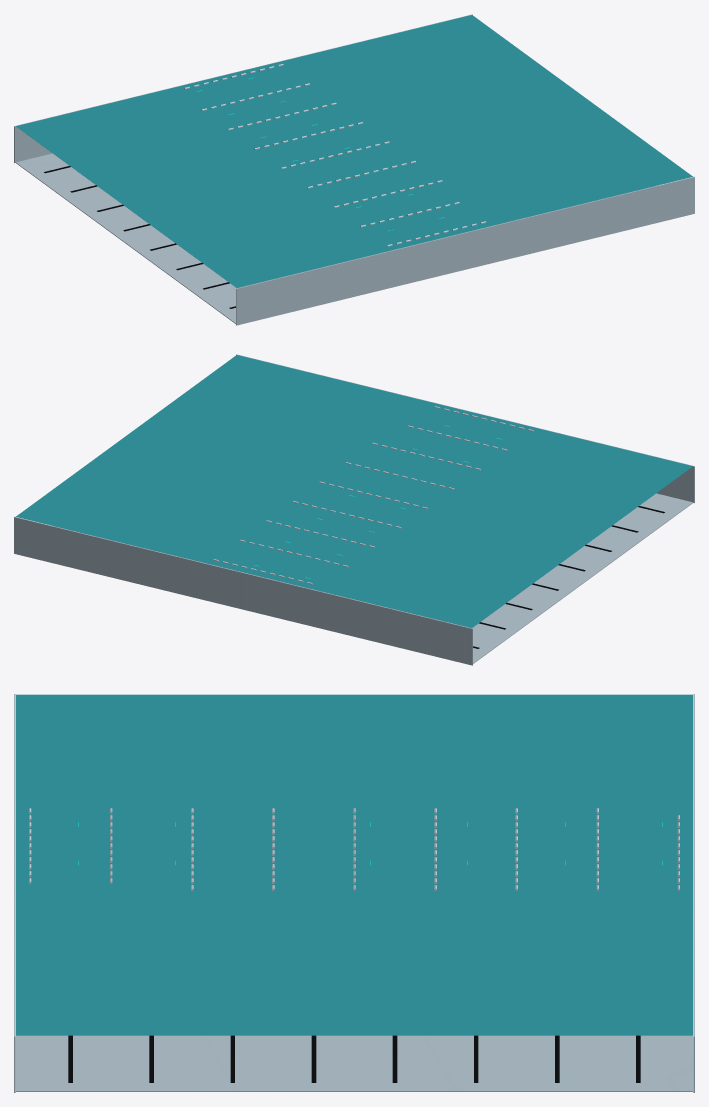
Rendered from tt_pool_lap_tank_b.glb.
The picture shows the model from 3 angles, top to bottom: view 1: azimuth 30°, elevation 25°; view 2: azimuth 150°, elevation 25°; view 3: azimuth 270°, elevation 25°; orthographic projection. The views are drawn at different scales.
Parts seen in each view (by area): view 1: Water_Opaque, Tank_Sides, Tank_Floor, Lane_Floats; view 2: Water_Opaque, Tank_Sides, Tank_Floor, Lane_Floats; view 3: Water_Opaque, Tank_Floor, Lane_FloorMarks, Lane_Floats, Tank_Sides.
Boxes of the visible parts, x1,y1,x2,y2 form: Water_Opaque: (16, 15, 692, 287); Tank_Sides: (14, 14, 694, 325); Tank_Floor: (15, 153, 655, 323); Lane_Floats: (184, 64, 486, 246); Water_Opaque: (16, 355, 692, 627); Tank_Sides: (14, 354, 694, 665); Tank_Floor: (53, 493, 693, 663); Lane_Floats: (213, 406, 533, 584); Water_Opaque: (16, 694, 692, 1035); Tank_Floor: (16, 1035, 692, 1091); Lane_FloorMarks: (68, 1035, 640, 1082); Lane_Floats: (29, 808, 679, 890); Tank_Sides: (14, 694, 694, 1092).
Size of what is drawn, in the model's own units: 24.99 by 2 by 20.99.
Materials: 5 (3 with a texture image).
